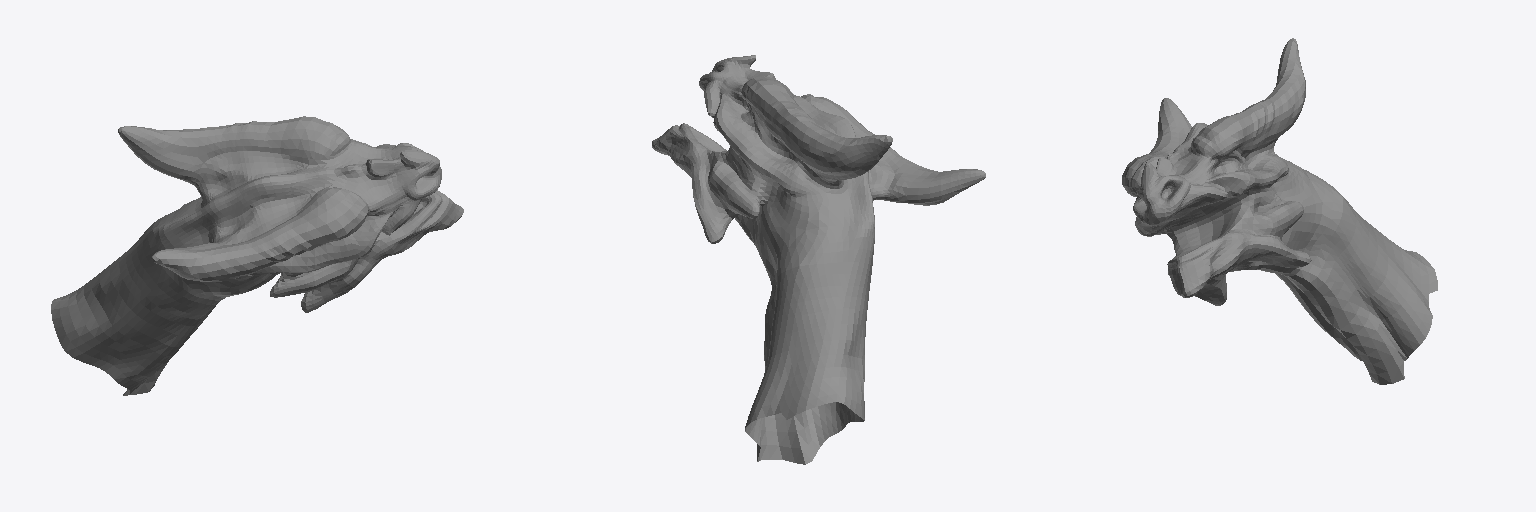
Rendered from cabeza2.obj.
The picture shows the model from 3 angles: view 1: azimuth 30°, elevation 25°; view 2: azimuth 150°, elevation 25°; view 3: azimuth 270°, elevation 25°; orthographic projection.
Parts seen in each view (by area): view 1: Cabeza2; view 2: Cabeza2; view 3: Cabeza2.
Boxes of the visible parts, x1=… form: Cabeza2: x1=51, y1=116, x2=463, y2=395; Cabeza2: x1=652, y1=55, x2=985, y2=464; Cabeza2: x1=1122, y1=38, x2=1437, y2=384.
Bounding box in the file's own units: 2.2 × 2.02 × 1.87.